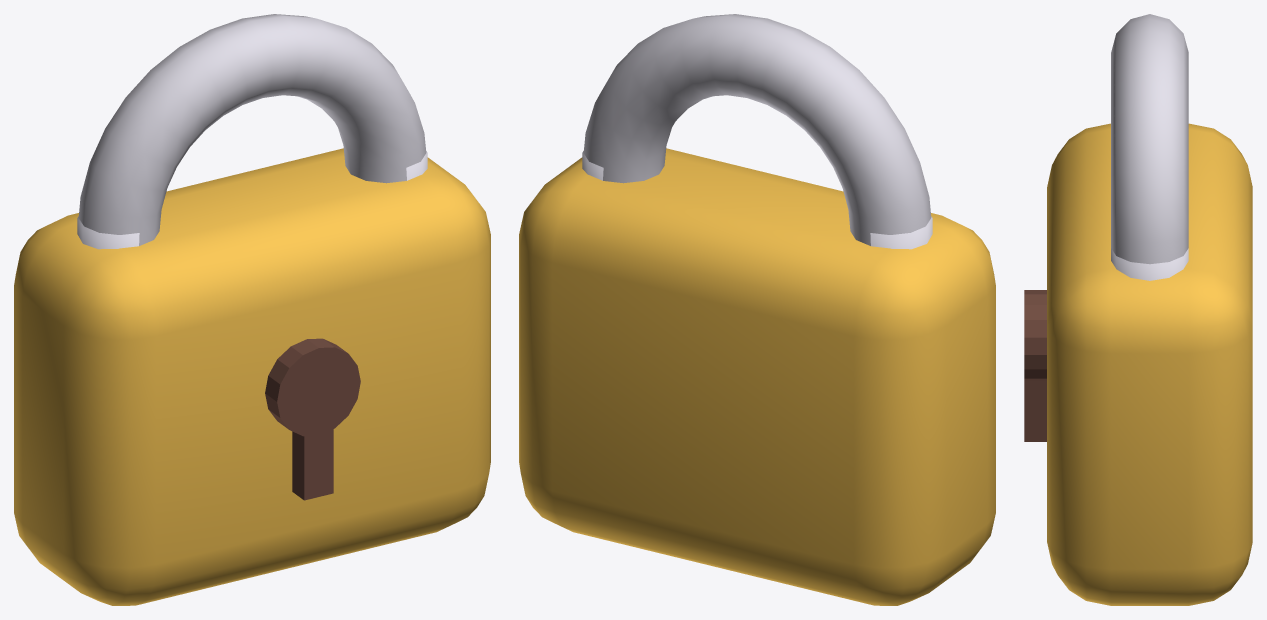
Rendered from map_padlock.glb.
3 views of the same model, side by side, from view 1: azimuth 30°, elevation 25°; view 2: azimuth 150°, elevation 25°; view 3: azimuth 270°, elevation 25° (orthographic). The views are drawn at different scales.
Parts seen in each view (by area): view 1: LockBody, LockShackle, LockKeyhole; view 2: LockBody, LockShackle; view 3: LockBody, LockShackle, LockKeyhole.
Part boxes in pixels (x1,y1,x2,y2): LockBody: [14, 148, 490, 605]; LockShackle: [77, 14, 427, 249]; LockKeyhole: [265, 338, 360, 500]; LockBody: [519, 148, 995, 605]; LockShackle: [582, 14, 932, 249]; LockBody: [1047, 123, 1252, 605]; LockShackle: [1111, 14, 1188, 280]; LockKeyhole: [1024, 290, 1046, 441].
Size of the model in its own units: 1 by 1.21 by 0.5.
